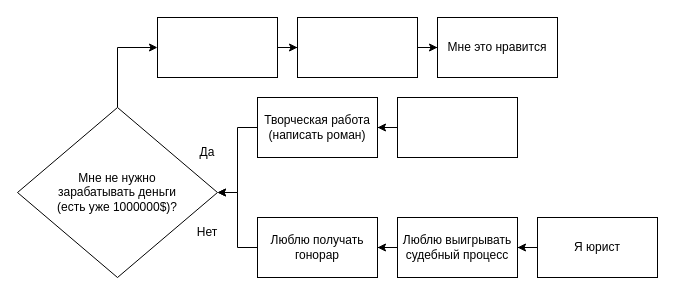
Some shapes in this 675 by 295 pixel diagram are drawn without their labels. Here are the shapes that lost their labels. From the top down, the centre of each, then its label:
At [217,47]: "Хочу комфортно жить".
At [357,47]: "Хочу высвободить время для семьи".
At [457,127]: "Я писатель".
